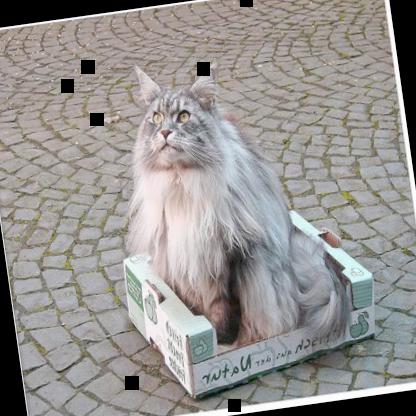cat: (112, 41, 348, 363)
